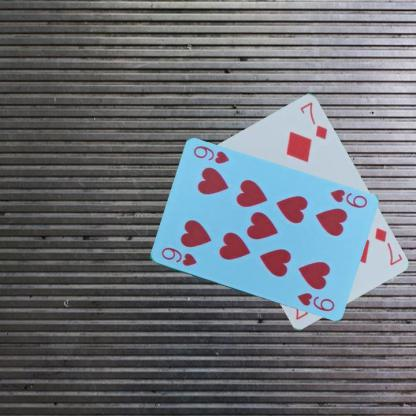7d: (372, 225, 404, 266)
9h: (327, 186, 368, 209), (158, 245, 198, 267)
